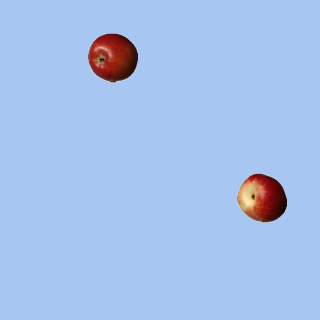Apple Braeburn: (87, 32, 137, 82)
Nectarine: (236, 172, 286, 222)
